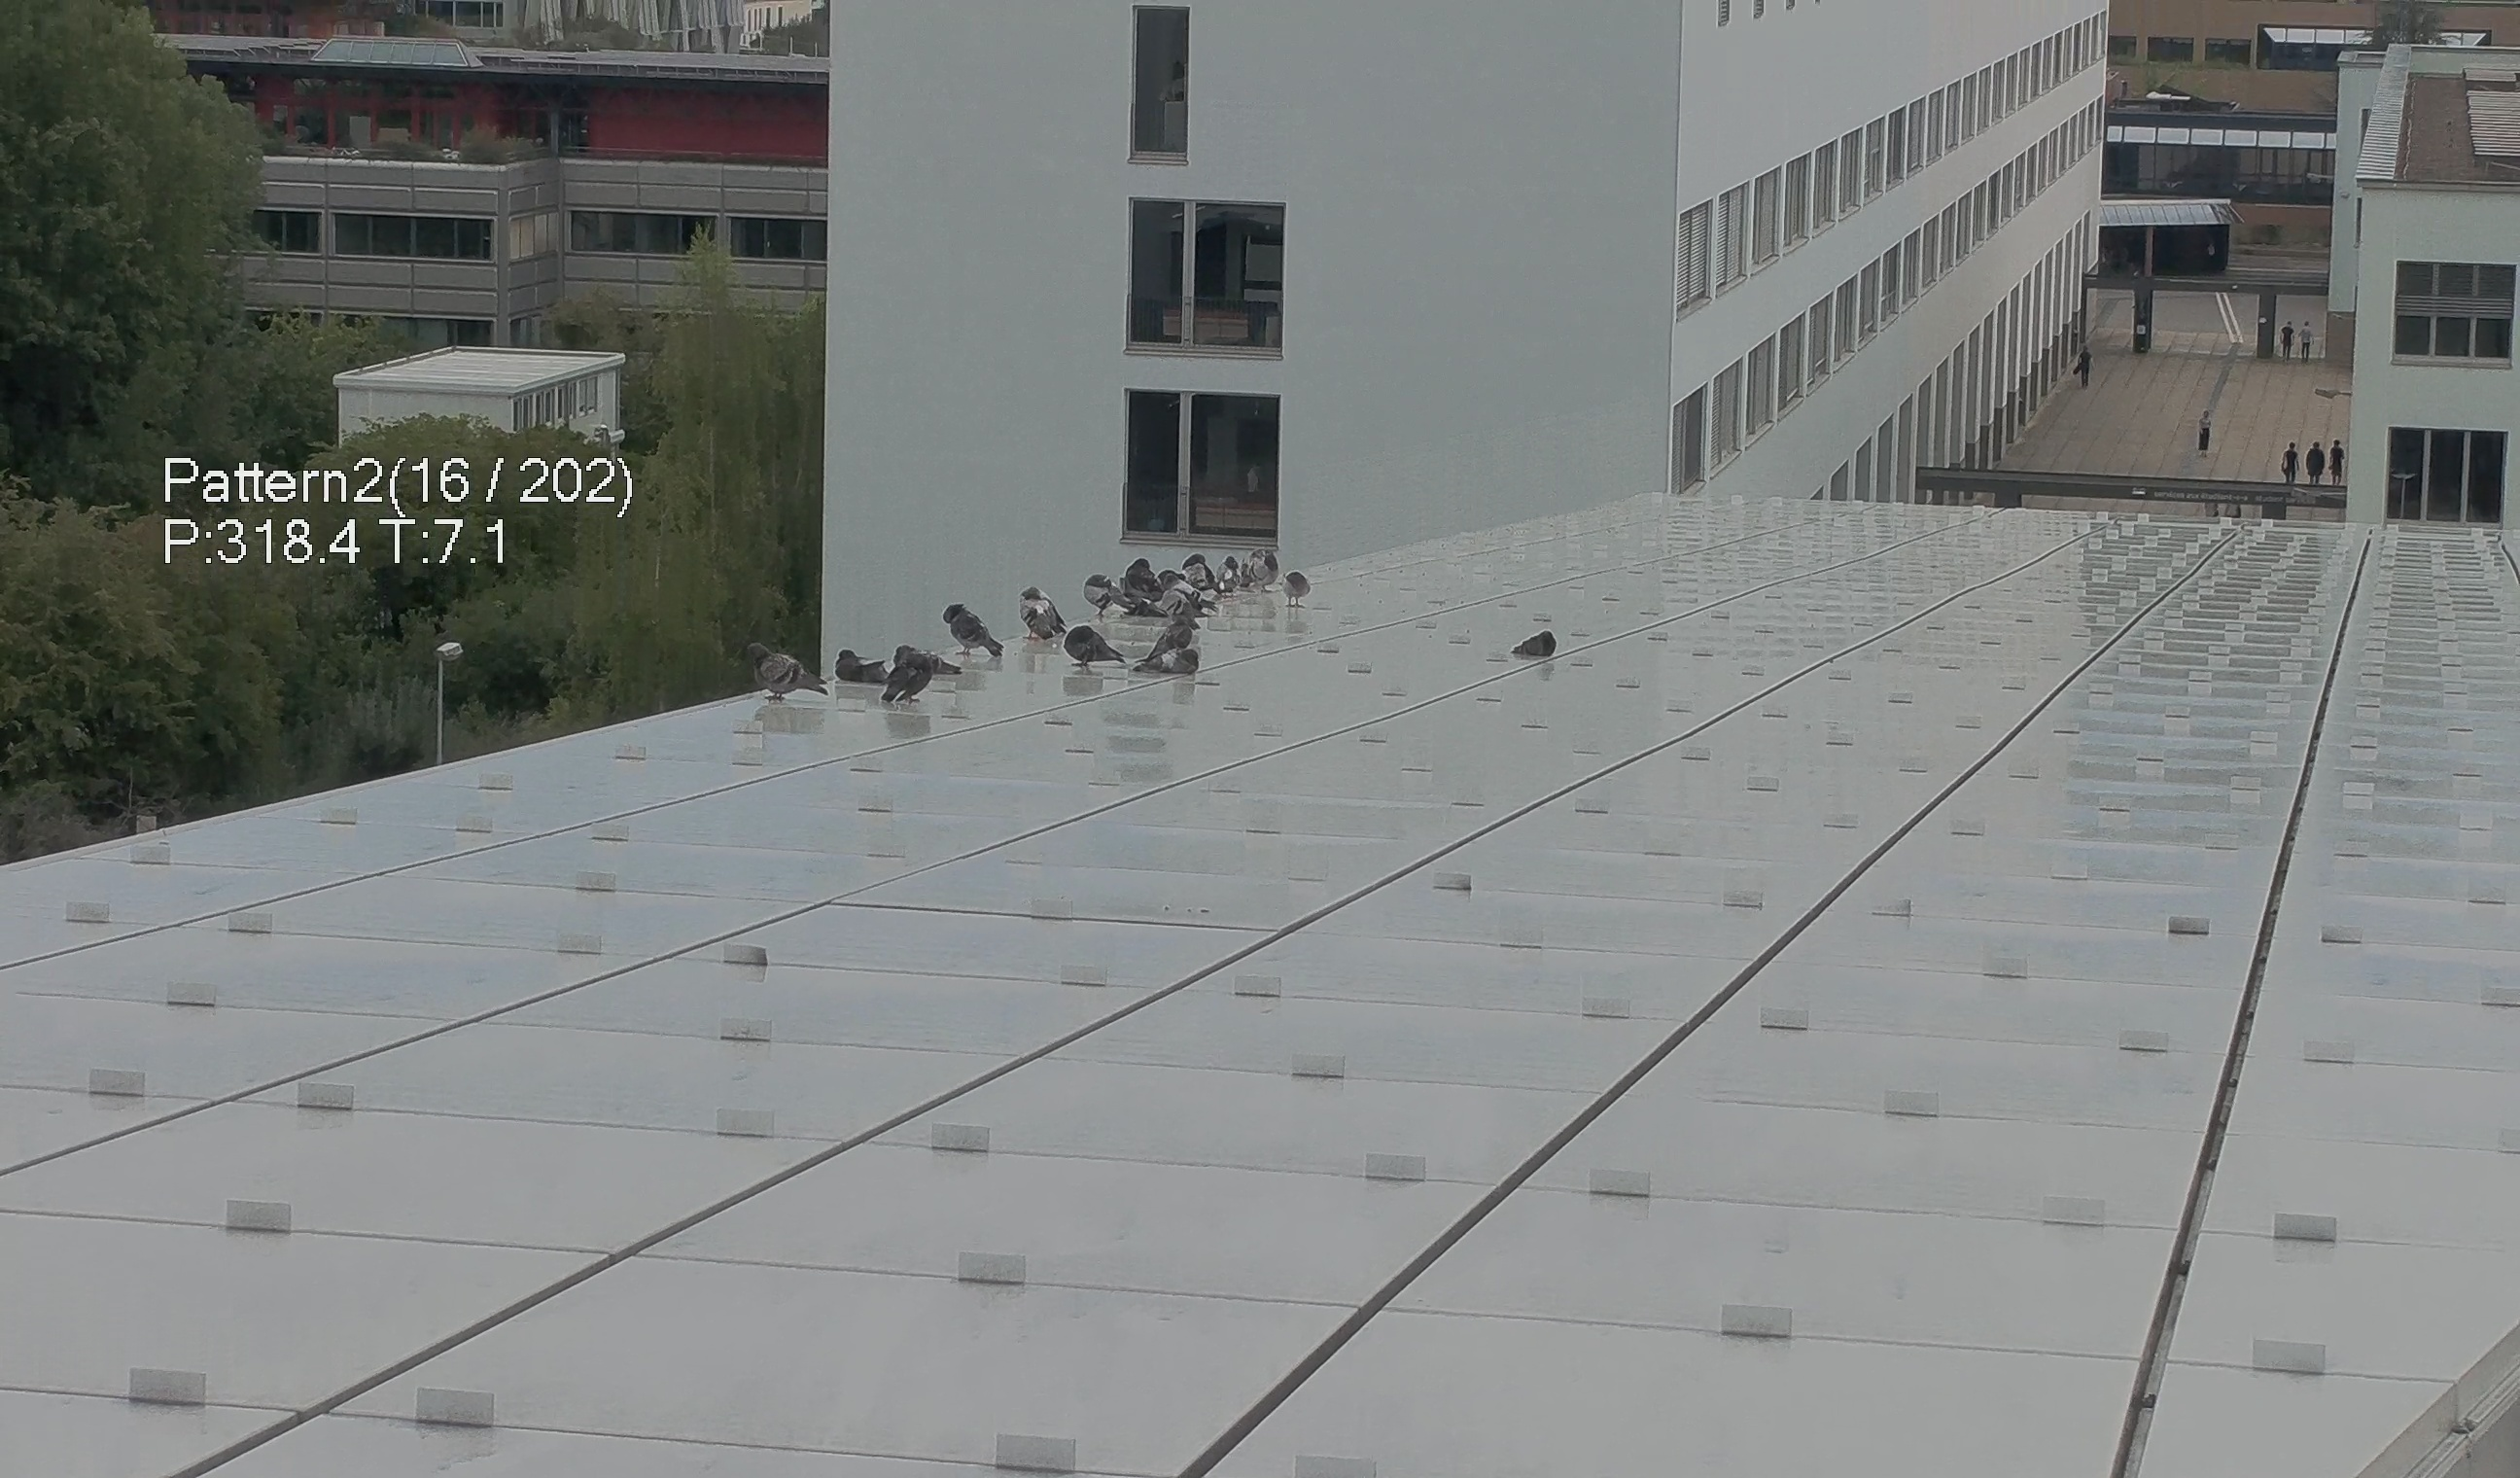Pigeon: (730, 623, 816, 718), (872, 648, 965, 706), (1497, 621, 1560, 677), (1053, 623, 1127, 670), (1016, 584, 1071, 640), (941, 604, 1001, 655), (1157, 572, 1217, 614), (1154, 611, 1203, 660), (1136, 649, 1210, 681), (1242, 549, 1284, 598), (830, 644, 886, 679), (1083, 577, 1140, 612), (1277, 567, 1314, 616)
